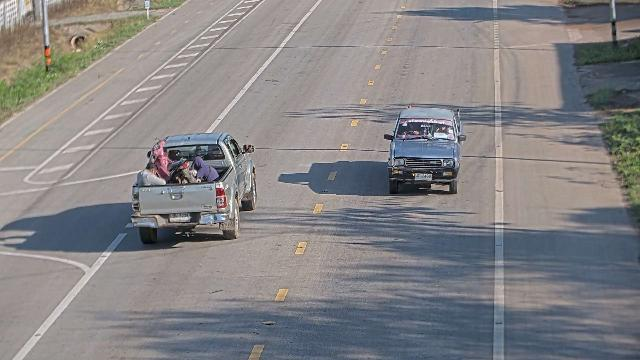pickup-truck: (130, 131, 257, 244), (383, 104, 467, 195)
